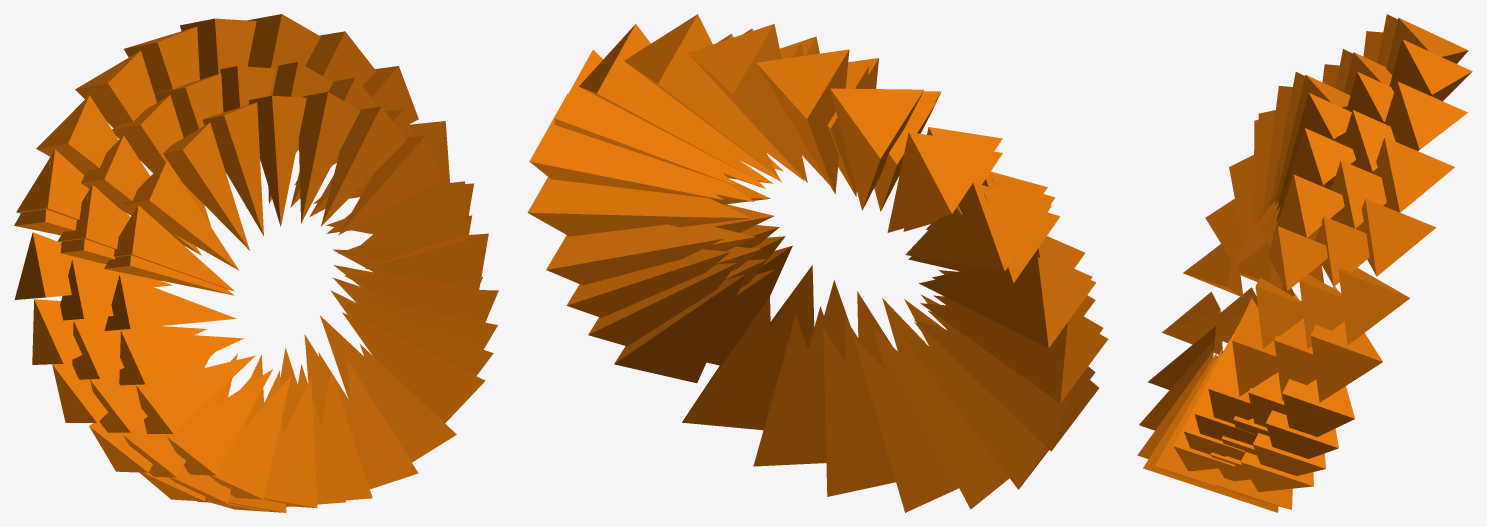
The model's file is mane .fbx.
3 renders of one model, left to right at view 1: azimuth 30°, elevation 25°; view 2: azimuth 150°, elevation 25°; view 3: azimuth 270°, elevation 25°, orthographic. The views are drawn at different scales.
Visible parts, largest first — view 1: uploads_files_2713414_lowpo carpincho.001; view 2: uploads_files_2713414_lowpo carpincho.001; view 3: uploads_files_2713414_lowpo carpincho.001.
Part boxes in pixels (x1,y1,x2,y2): uploads_files_2713414_lowpo carpincho.001: (14,14,498,512); uploads_files_2713414_lowpo carpincho.001: (527,14,1108,512); uploads_files_2713414_lowpo carpincho.001: (1137,14,1472,512).
Size of the model in its own units: 206 by 200 by 136.
